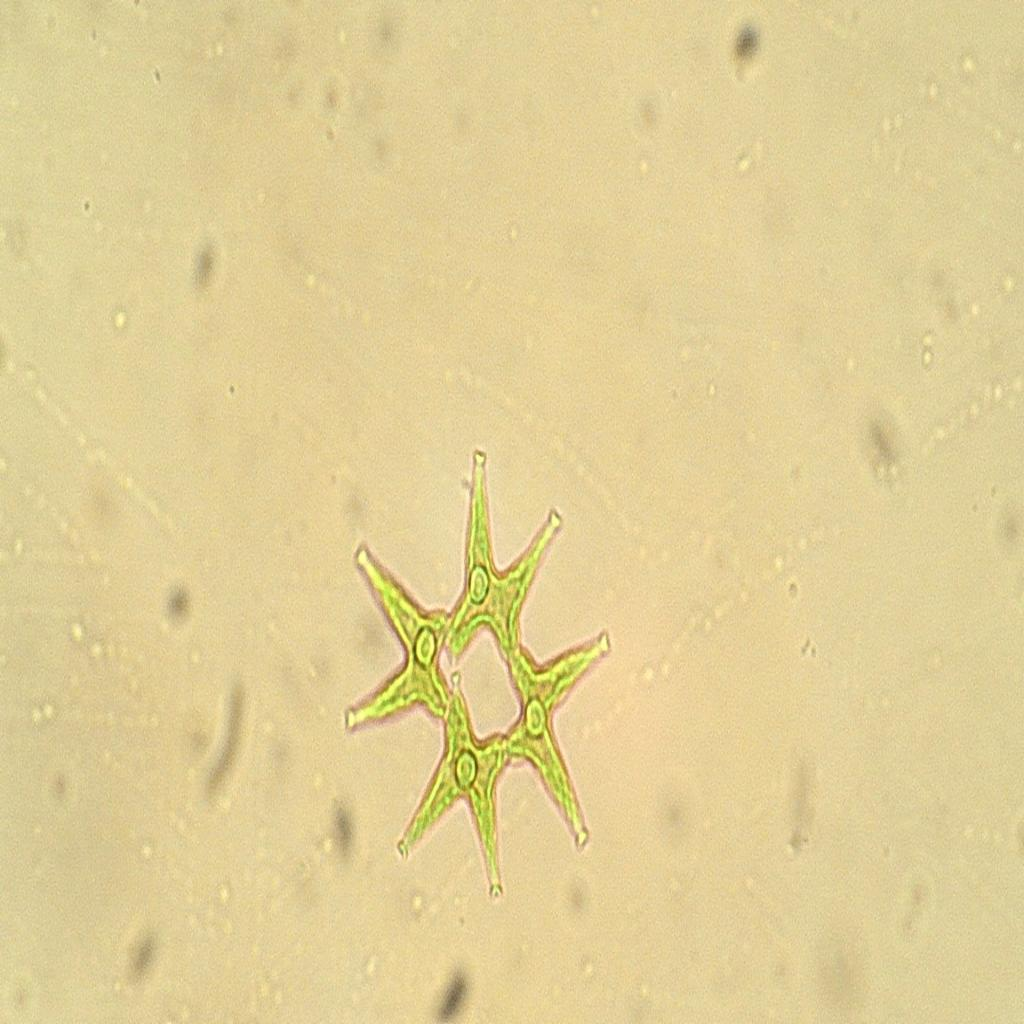Pediastrum_CF: (321, 412, 619, 916)
